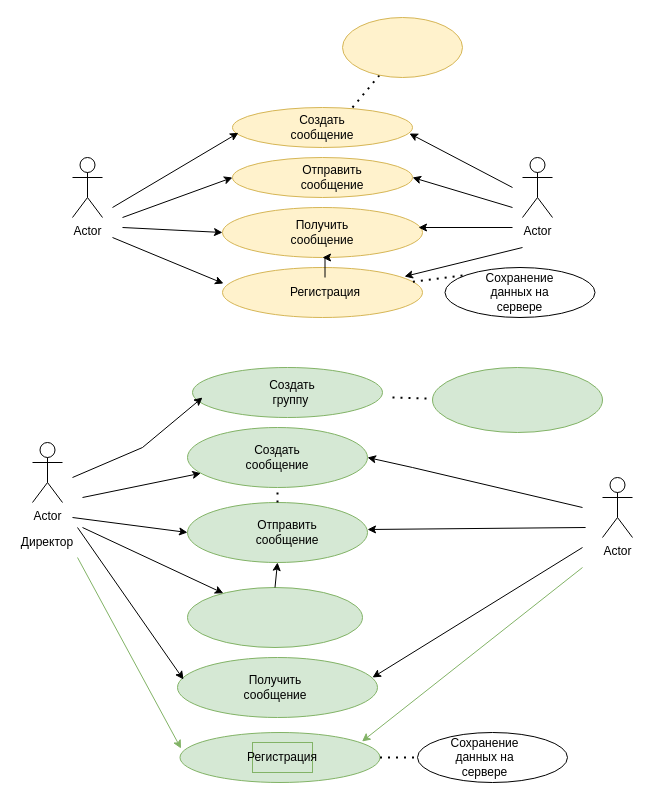
The diagram is 650 pixels wide and 800 high, and some of its shapes have lost their labels. Each missing label, with the centre of its shape:
Назначить права пользователям группы: the point at 517,399
Подгрузить документ: the point at 274,617
Создать фото: the point at 402,47
